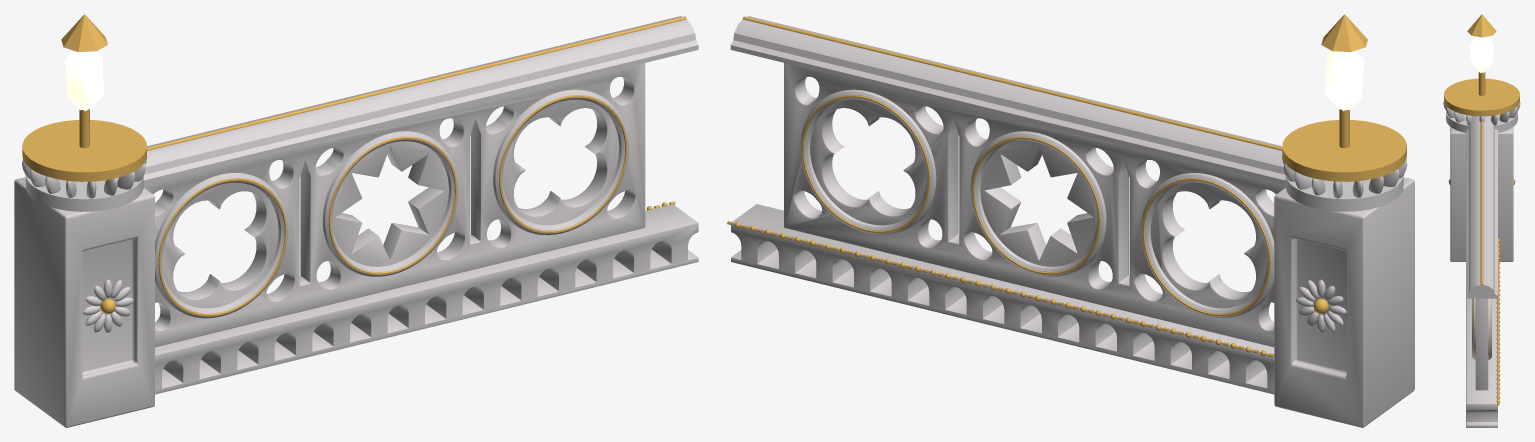
The model's file is bridge_railing_module.glb.
3 renders of one model, left to right at view 1: azimuth 30°, elevation 25°; view 2: azimuth 150°, elevation 25°; view 3: azimuth 270°, elevation 25°, orthographic. The views are drawn at different scales.
Parts seen in each view (by area): view 1: BridgeRailingModule; view 2: BridgeRailingModule; view 3: BridgeRailingModule.
Boxes of the visible parts, box(x1,y1,x2,y2) form: BridgeRailingModule: box(14, 14, 698, 427); BridgeRailingModule: box(727, 14, 1414, 427); BridgeRailingModule: box(1443, 14, 1520, 427).
Bounding box in the file's own units: 4.38 × 2.45 × 0.7286.
